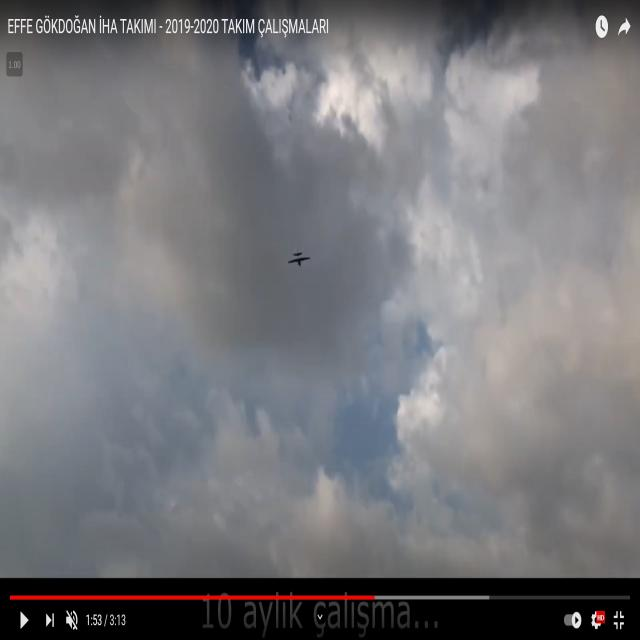iha: (288, 249, 311, 268)
